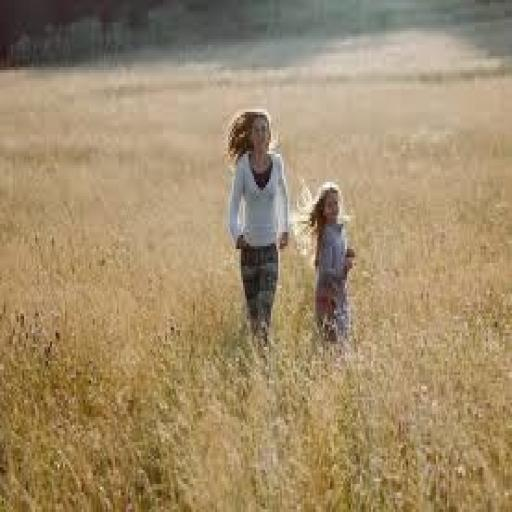running: (225, 106, 293, 372), (302, 179, 360, 358)
